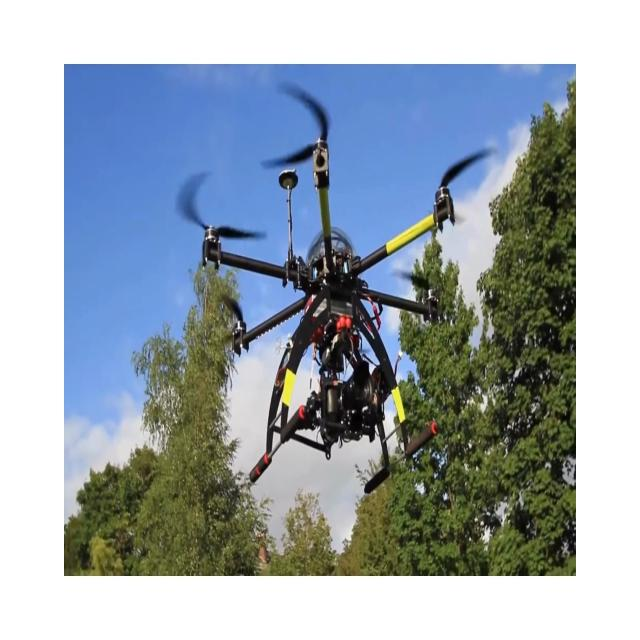drone: (176, 79, 498, 495)
